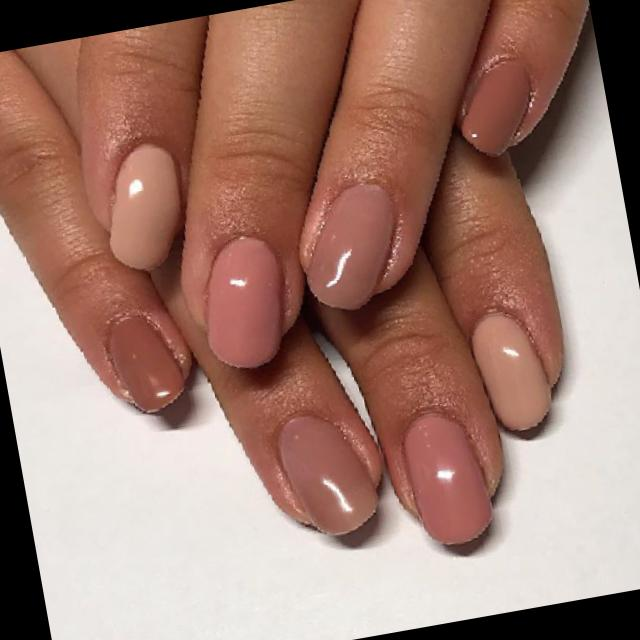Nail: (278, 417, 377, 535), (403, 414, 492, 544), (306, 184, 394, 309), (207, 236, 283, 368), (471, 313, 551, 430), (109, 143, 180, 269), (108, 316, 185, 411), (461, 60, 529, 155)
